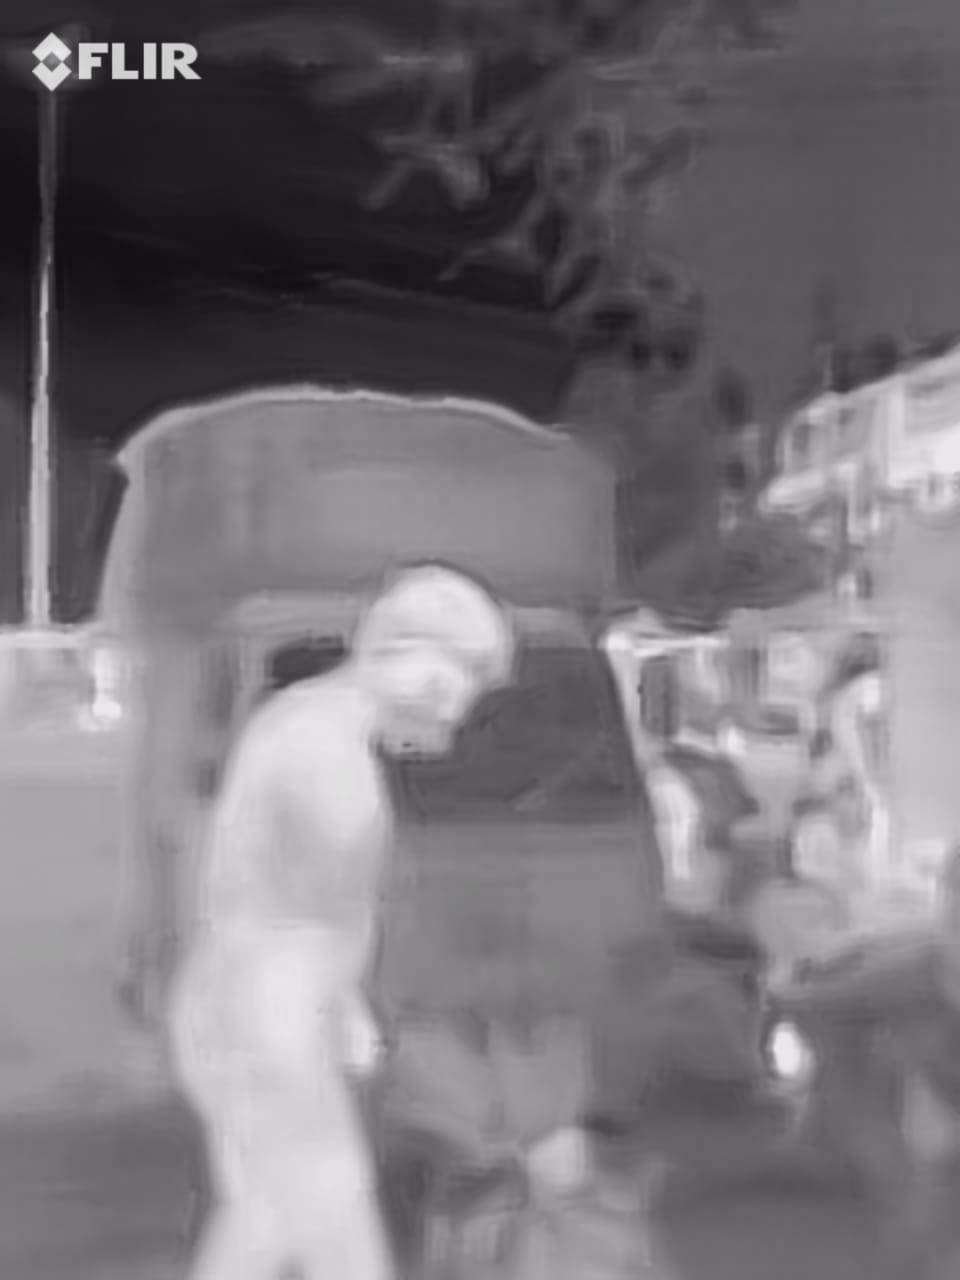head: (349, 558, 519, 777)
